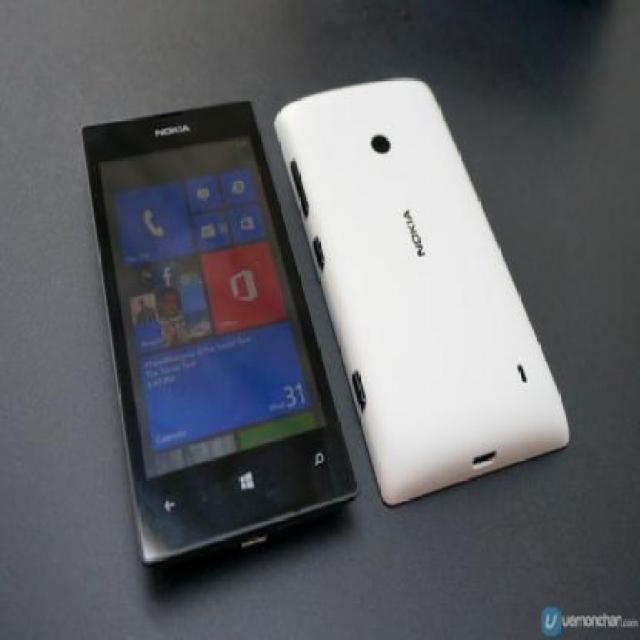phone: (77, 99, 360, 567), (279, 92, 562, 486)
